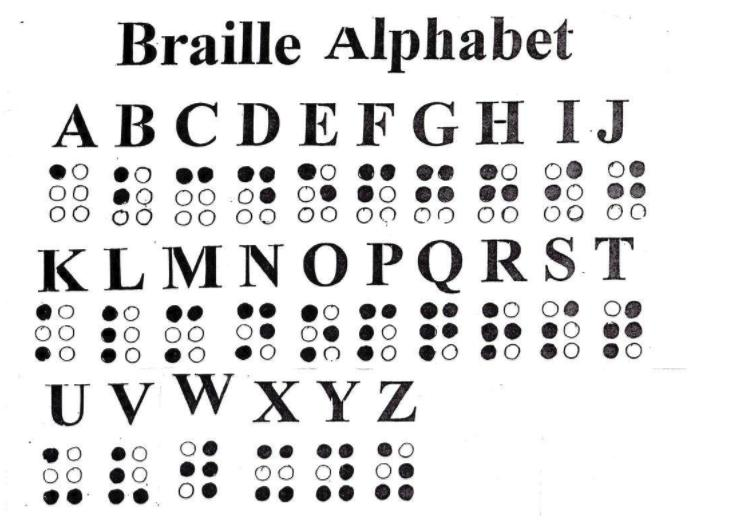Braille: (49, 162, 90, 224), (175, 166, 215, 227), (375, 441, 414, 503), (297, 164, 338, 222), (236, 304, 277, 362), (478, 165, 518, 224), (481, 303, 521, 362), (43, 446, 83, 505), (416, 164, 455, 224), (608, 160, 647, 220), (358, 304, 397, 364), (36, 302, 75, 361), (604, 300, 643, 359), (546, 160, 583, 222), (238, 165, 276, 225), (419, 303, 458, 361), (102, 306, 140, 363), (302, 306, 340, 363), (542, 302, 580, 359), (167, 306, 204, 364), (111, 447, 148, 505), (180, 441, 217, 499), (317, 445, 355, 501), (116, 166, 152, 225), (359, 164, 395, 223), (257, 444, 292, 503)
